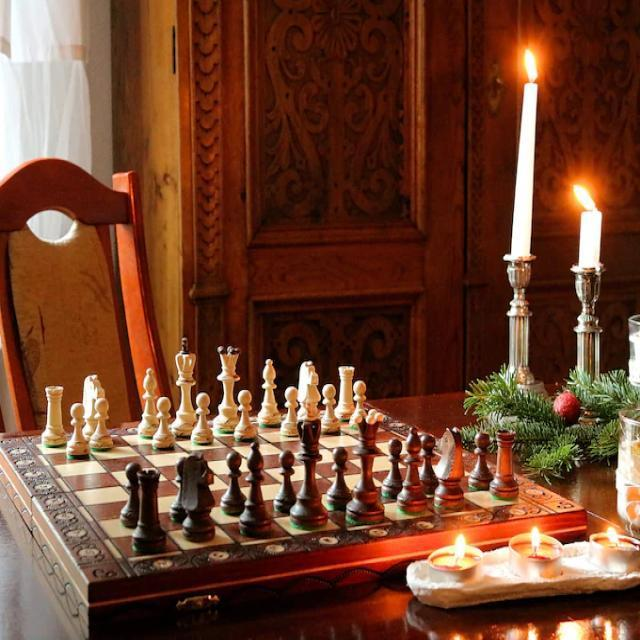chess-table-corners: (98, 530, 140, 577), (336, 398, 380, 434), (26, 438, 70, 474), (508, 482, 544, 522)
